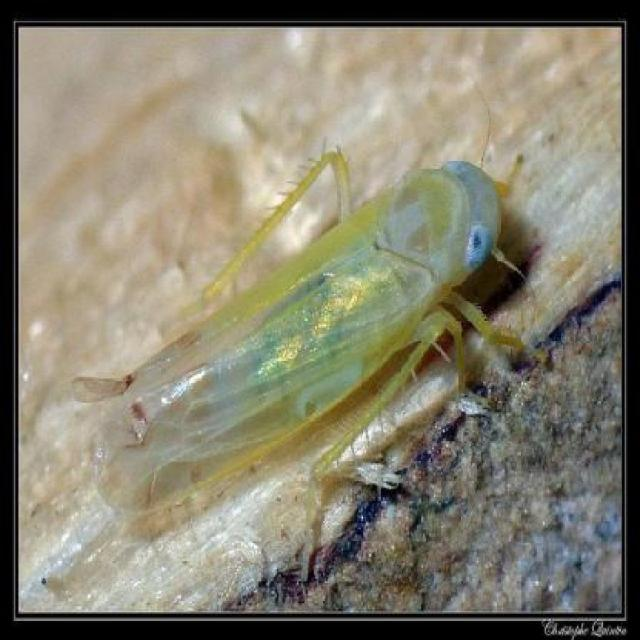green-leafhopper: (111, 150, 498, 510)
